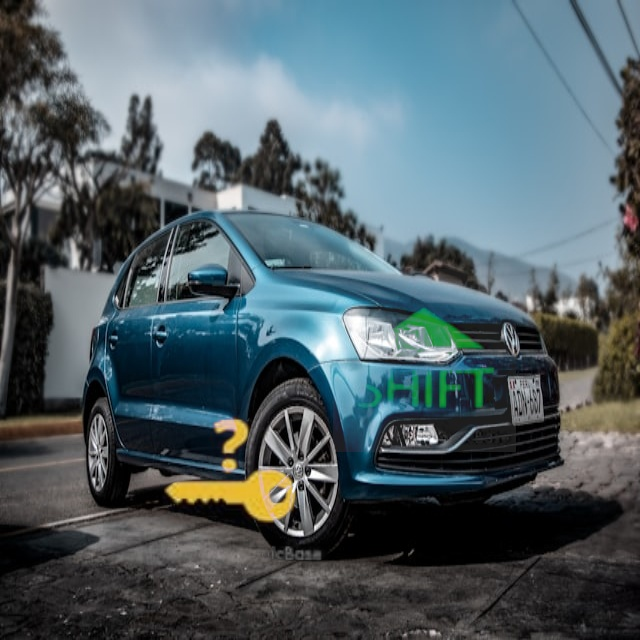symbol: (131, 372, 329, 570), (333, 269, 516, 452)
